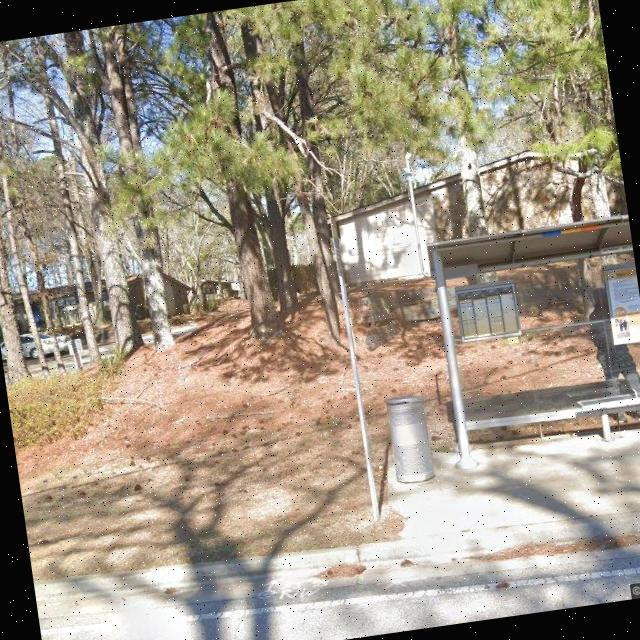seating: (574, 383, 640, 447)
shelter: (426, 213, 640, 479)
trash_can: (384, 394, 436, 488)
